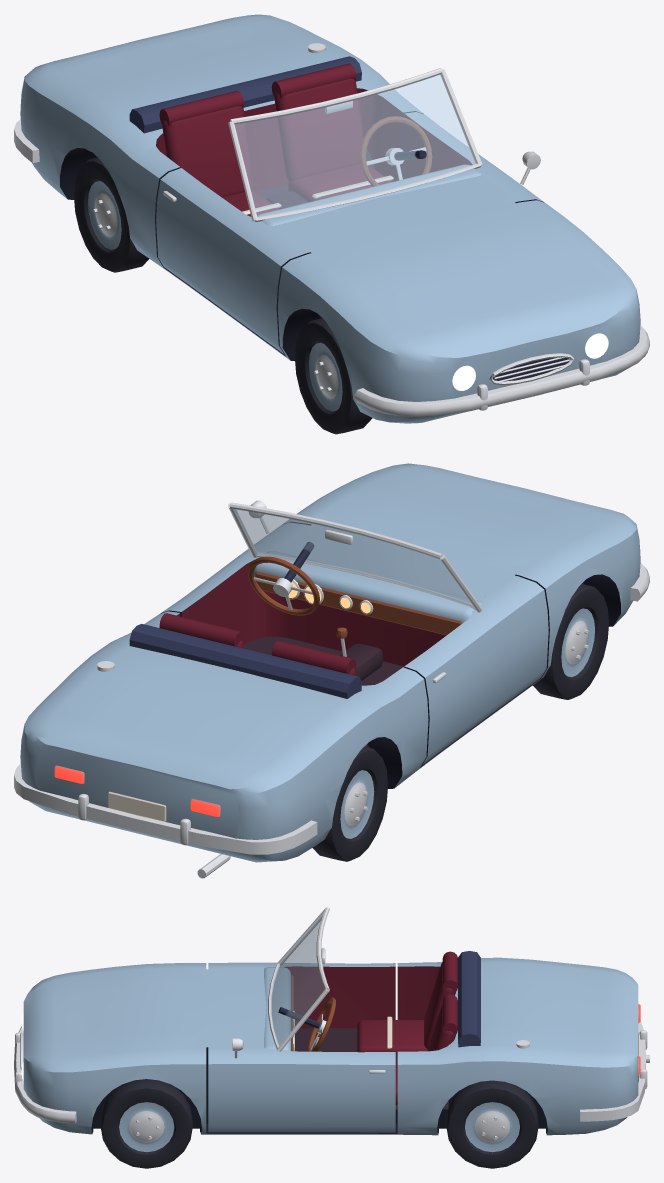
The model's file is hero_car.glb.
3 views of the same model, one above another, from view 1: azimuth 30°, elevation 25°; view 2: azimuth 150°, elevation 25°; view 3: azimuth 270°, elevation 25° (orthographic). The views are drawn at different scales.
Parts seen in each view (by area): view 1: body, interior, windshield, door_r, wheel_fr, wheel_rr, door_l, windshield_frame, steering_wheel; view 2: body, interior, door_r, windshield, door_l, wheel_fr, wheel_rr, windshield_frame, steering_wheel; view 3: body, door_l, interior, wheel_fl, wheel_rl, door_r, windshield, windshield_frame, steering_wheel.
Boxes of the visible parts, box(x1,y1,x2,y2) form: body: box(14, 14, 649, 423); interior: box(129, 56, 481, 225); windshield: box(235, 74, 475, 216); door_r: box(156, 168, 310, 354); wheel_fr: box(294, 318, 372, 434); wheel_rr: box(74, 157, 149, 272); door_l: box(404, 112, 544, 202); windshield_frame: box(228, 68, 482, 221); steering_wheel: box(360, 116, 432, 186); body: box(14, 463, 649, 878); interior: box(129, 542, 481, 747); door_r: box(404, 575, 548, 764); windshield: box(234, 509, 474, 608); door_l: box(160, 500, 309, 649); wheel_fr: box(533, 584, 608, 699); wheel_rr: box(312, 746, 388, 861); windshield_frame: box(228, 502, 482, 612); steering_wheel: box(247, 556, 319, 615); body: box(14, 957, 649, 1135); door_l: box(208, 1038, 395, 1132); interior: box(264, 951, 480, 1105); wheel_fl: box(100, 1079, 192, 1168); wheel_rl: box(446, 1080, 538, 1168); door_r: box(208, 962, 395, 1031); windshield: box(271, 917, 324, 1045); windshield_frame: box(268, 907, 329, 1051); steering_wheel: box(307, 997, 335, 1051).
Size of the model in its own units: 1.69 by 1.25 by 4.14.
5 materials, 5 textured.
